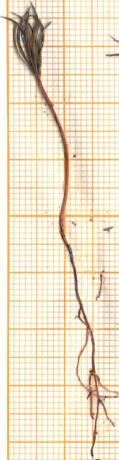flower: (5, 0, 64, 77)
root: (54, 234, 119, 460)
stem: (18, 77, 74, 232)
